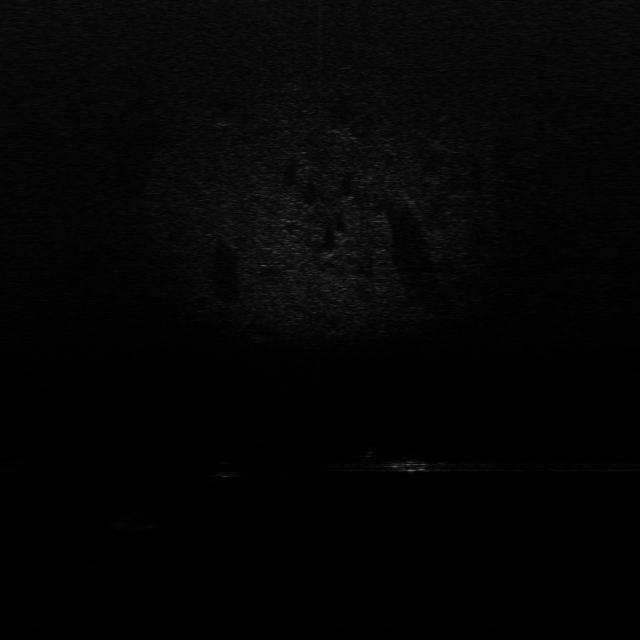ball: (208, 459, 248, 482)
circle cage: (110, 511, 160, 536)
human body: (326, 446, 462, 476)
